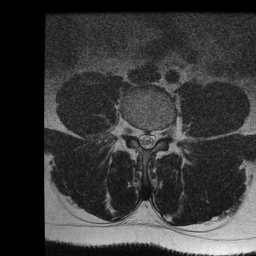CCS_normal: (143, 124, 150, 154)
LFS_normal: (157, 121, 165, 146)
LLS_normal: (149, 124, 157, 152)
RFS_normal: (128, 117, 136, 145)
RLS_normal: (136, 122, 143, 151)
